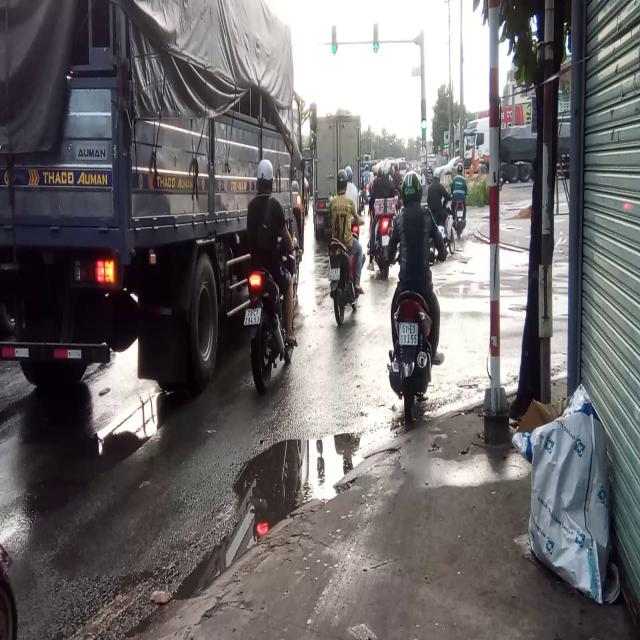bien_trang: (395, 320, 419, 348), (242, 306, 262, 331)
